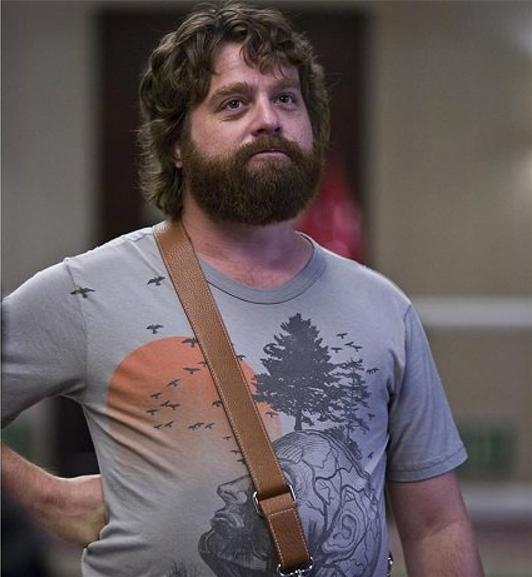Sober: (199, 50, 313, 194)
